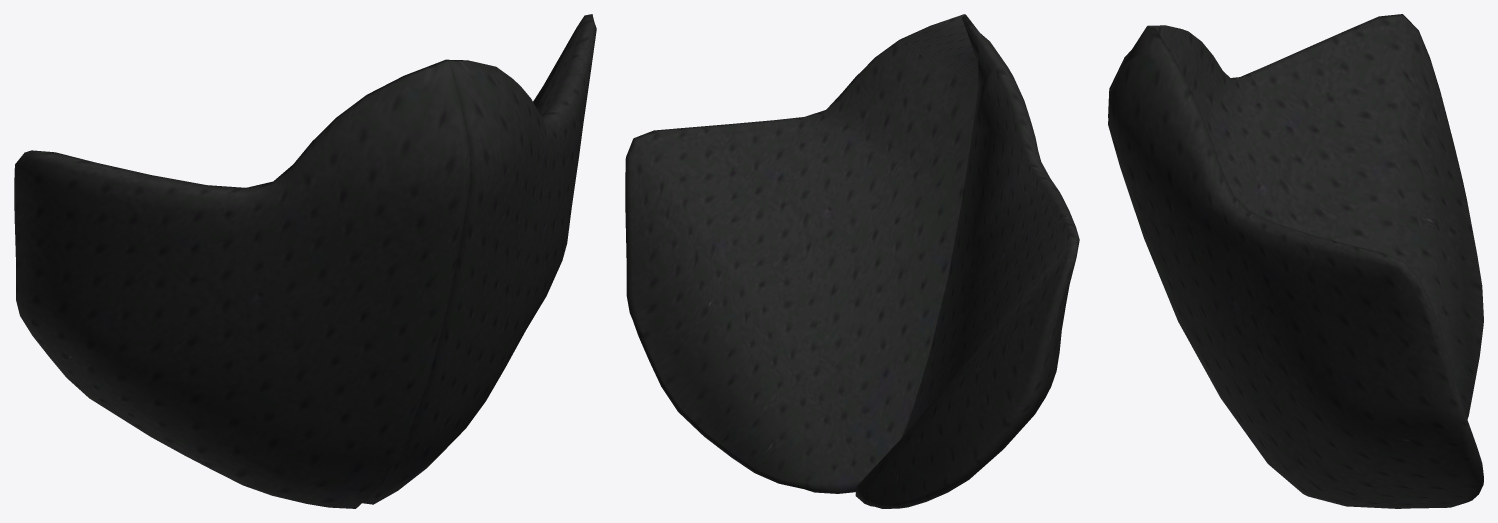
The model's file is WrenchMask_Part1.obj.
3 renders of one model, left to right at view 1: azimuth 30°, elevation 25°; view 2: azimuth 150°, elevation 25°; view 3: azimuth 270°, elevation 25°, orthographic. The views are drawn at different scales.
Parts seen in each view (by area): view 1: wrenchmaskf_wrenchmask_ref.001; view 2: wrenchmaskf_wrenchmask_ref.001; view 3: wrenchmaskf_wrenchmask_ref.001.
Boxes of the visible parts, x1=… form: wrenchmaskf_wrenchmask_ref.001: x1=14, y1=14, x2=596, y2=508; wrenchmaskf_wrenchmask_ref.001: x1=625, y1=14, x2=1079, y2=508; wrenchmaskf_wrenchmask_ref.001: x1=1108, y1=14, x2=1483, y2=508.
Bounding box in the file's own units: 6.22 × 5.4 × 3.91.
